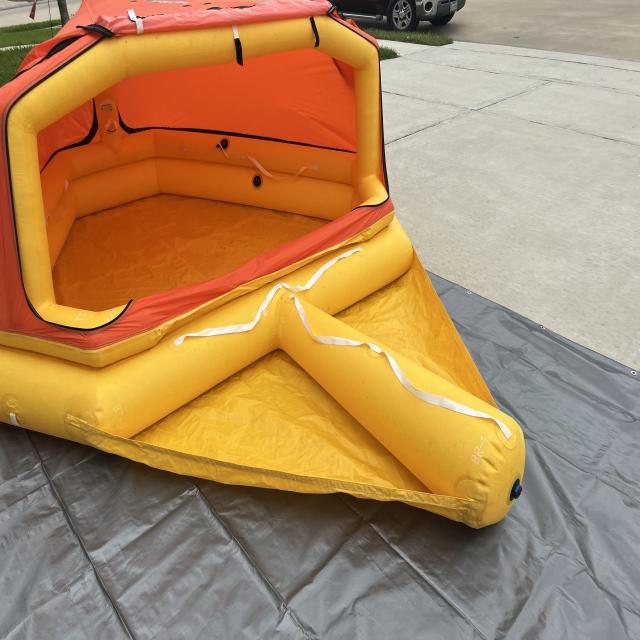Multi-person_life_raft: (0, 1, 525, 532)
